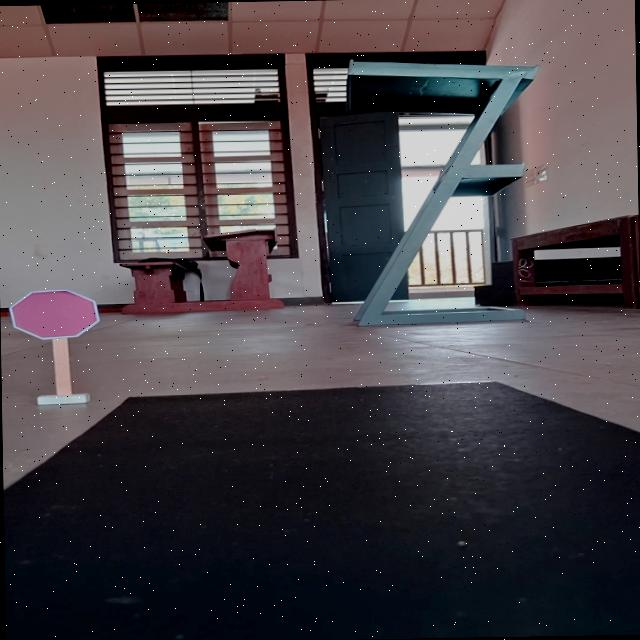Stop: (7, 286, 104, 342)
